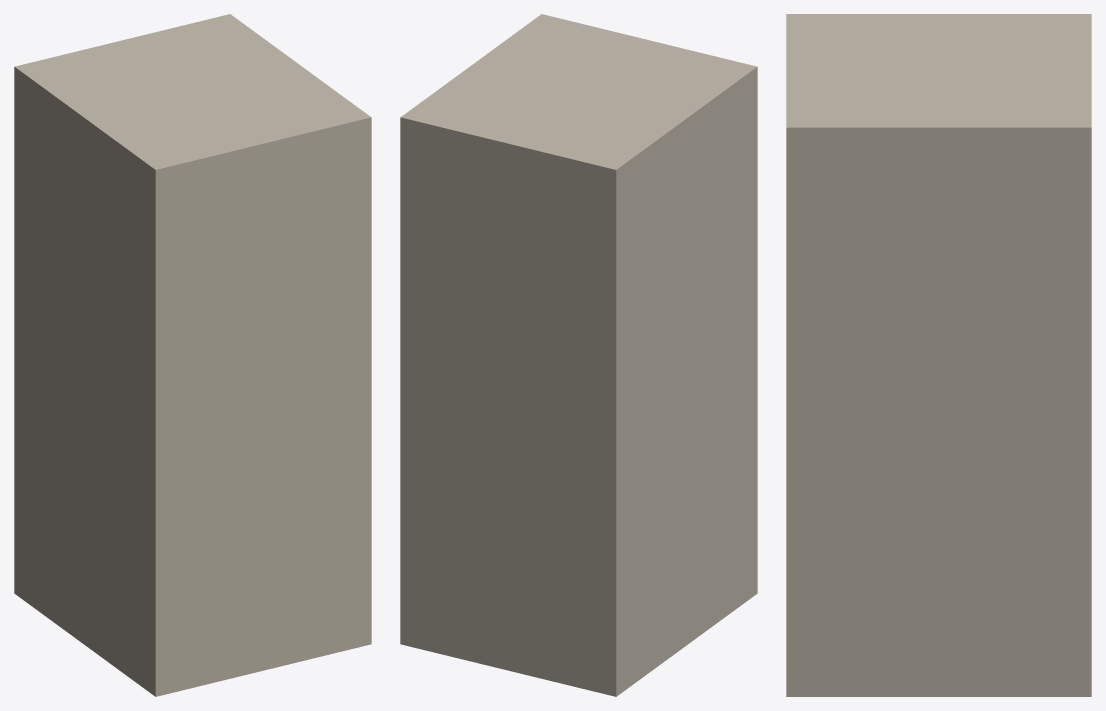
File: ikea-ekedalen-10340807-g2-proxy.glb
The picture shows the model from 3 angles, left to right: view 1: azimuth 30°, elevation 25°; view 2: azimuth 150°, elevation 25°; view 3: azimuth 270°, elevation 25°; orthographic projection. The views are drawn at different scales.
Parts seen in each view (by area): view 1: proxy_body; view 2: proxy_body; view 3: proxy_body.
Part boxes in pixels (x1,y1,x2,y2): proxy_body: (14,14,371,696); proxy_body: (400,14,757,696); proxy_body: (786,14,1091,696).
Size of the model in its own units: 0.45 by 1.05 by 0.51.
